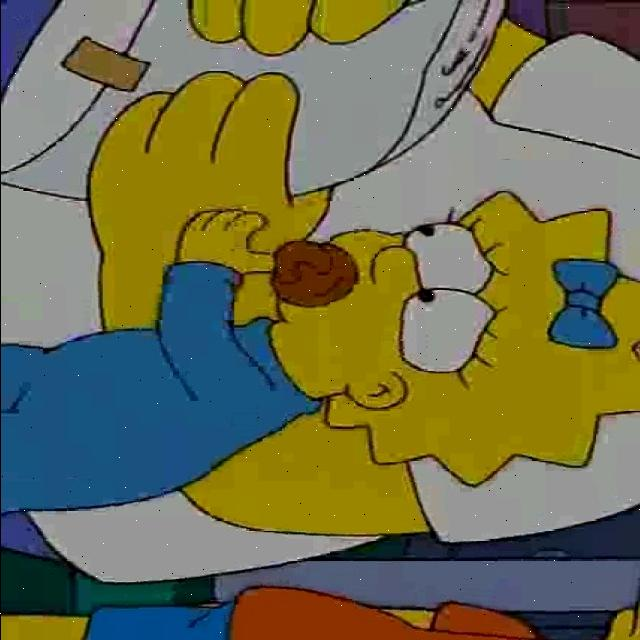Maggie Simpson: (266, 190, 640, 488)
